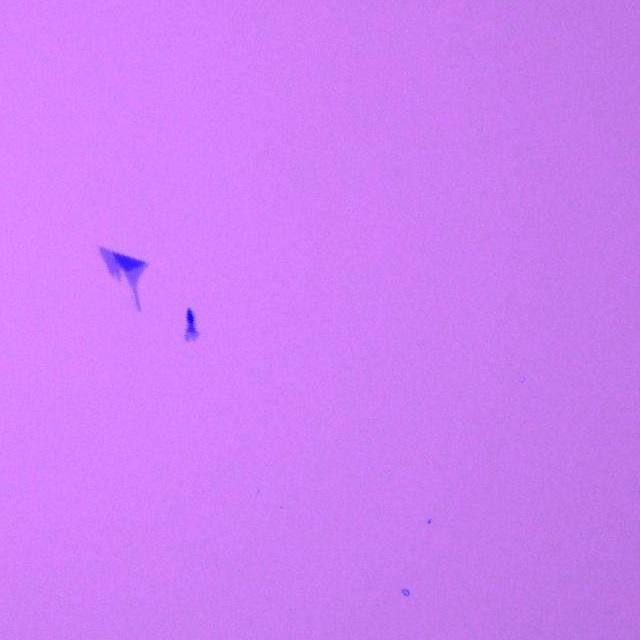monolayer-eWW4: (128, 263, 150, 313), (98, 244, 120, 280), (184, 331, 200, 344)
